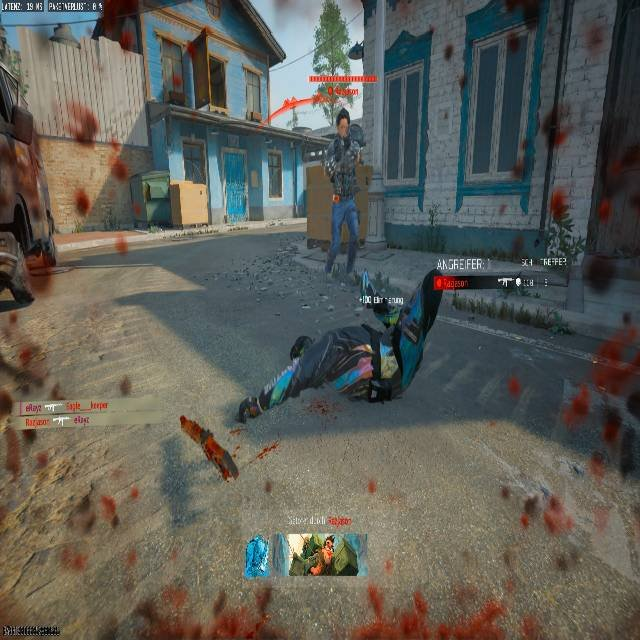head: (332, 109, 351, 132), (336, 99, 350, 118)
player: (237, 321, 422, 422), (324, 108, 363, 273), (325, 105, 365, 169)
